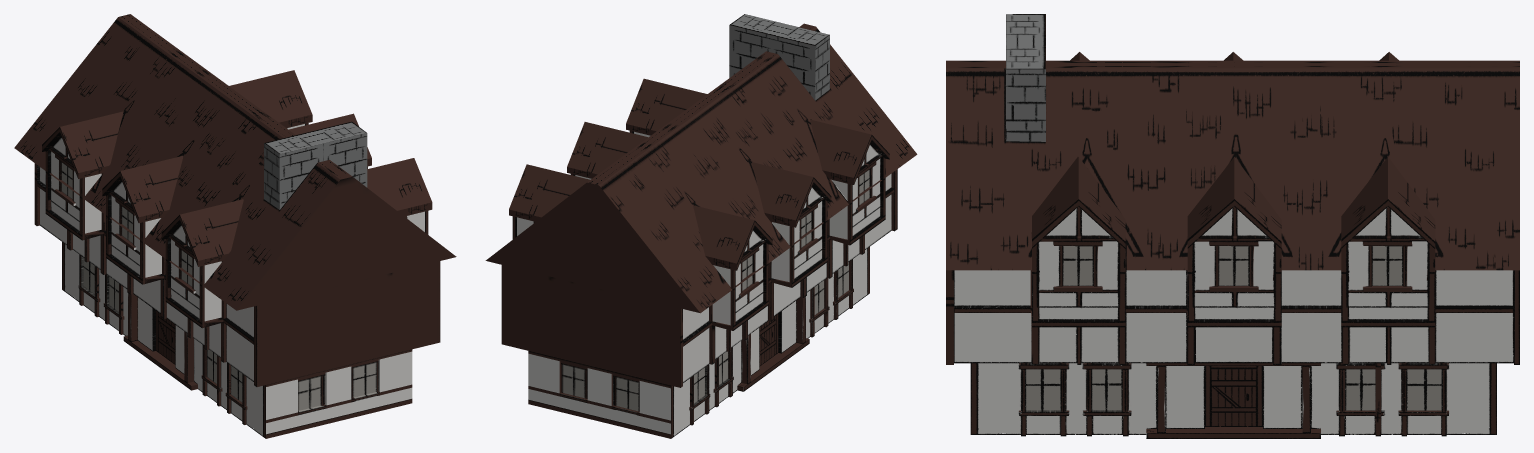
The model's file is SM_Building_BG.fbx.
The picture shows the model from 3 angles, left to right: view 1: azimuth 30°, elevation 25°; view 2: azimuth 150°, elevation 25°; view 3: azimuth 270°, elevation 25°; orthographic projection. The views are drawn at different scales.
Parts seen in each view (by area): view 1: bld_Artwork-2.001; view 2: bld_Artwork-2.001; view 3: bld_Artwork-2.001.
Part boxes in pixels (x1,y1,x2,y2): bld_Artwork-2.001: (14, 14, 456, 438); bld_Artwork-2.001: (485, 14, 917, 438); bld_Artwork-2.001: (946, 14, 1519, 438).
Size of the model in its own units: 255 by 279 by 420.
